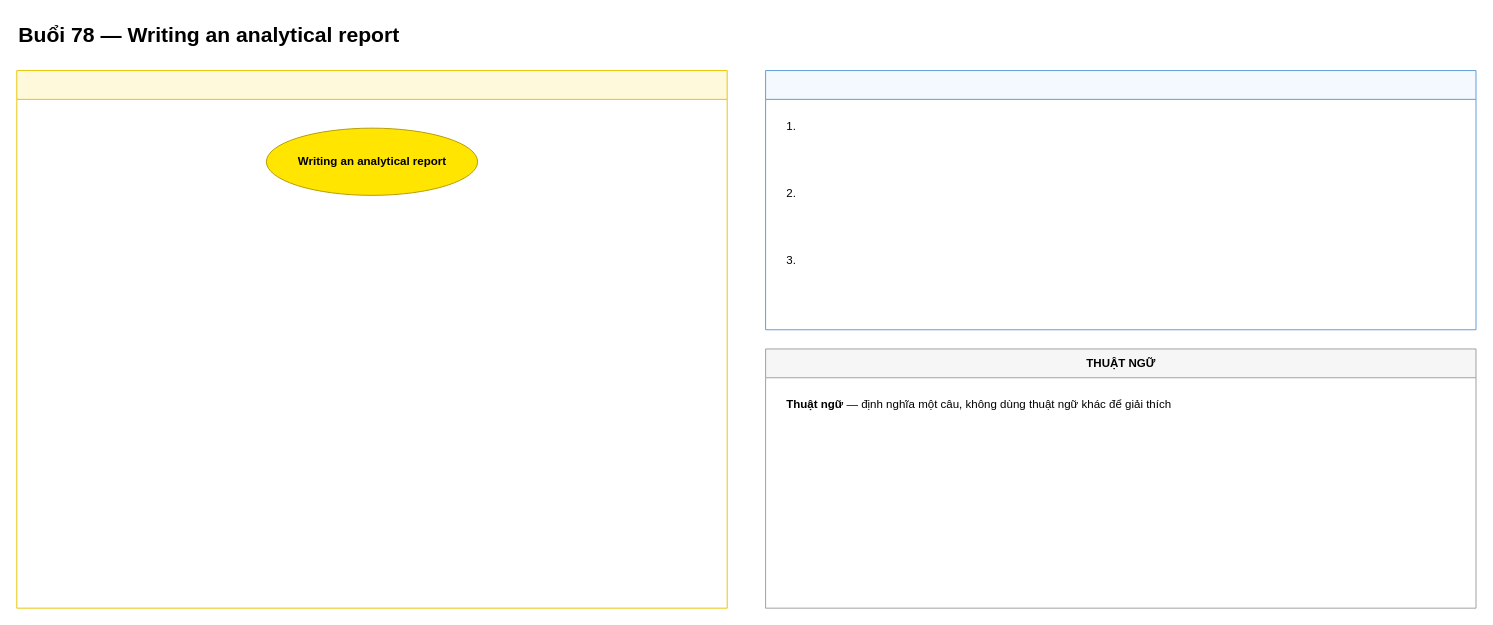
The diagram is 1493 pixels wide and 625 high, and some of its shapes have lost their labels. Each missing label, with the box of its shape:
KEY TAKEAWAY — ba điều phải nhớ: (765, 70, 1476, 330)
MINDMAP: (16, 70, 727, 608)
